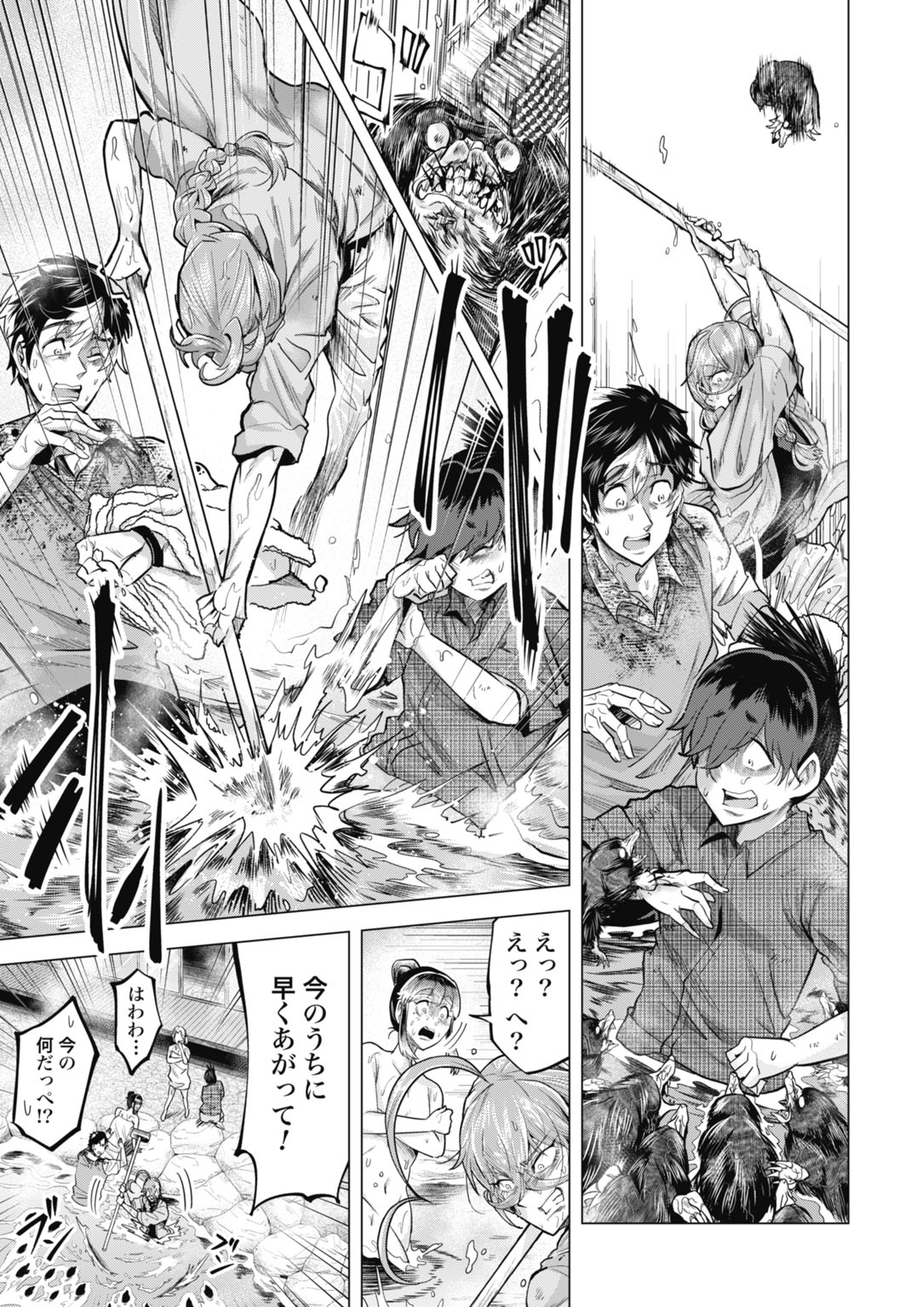bubbles: (222, 929, 358, 1217), (478, 908, 574, 1079), (8, 996, 103, 1158), (107, 963, 169, 1081)
